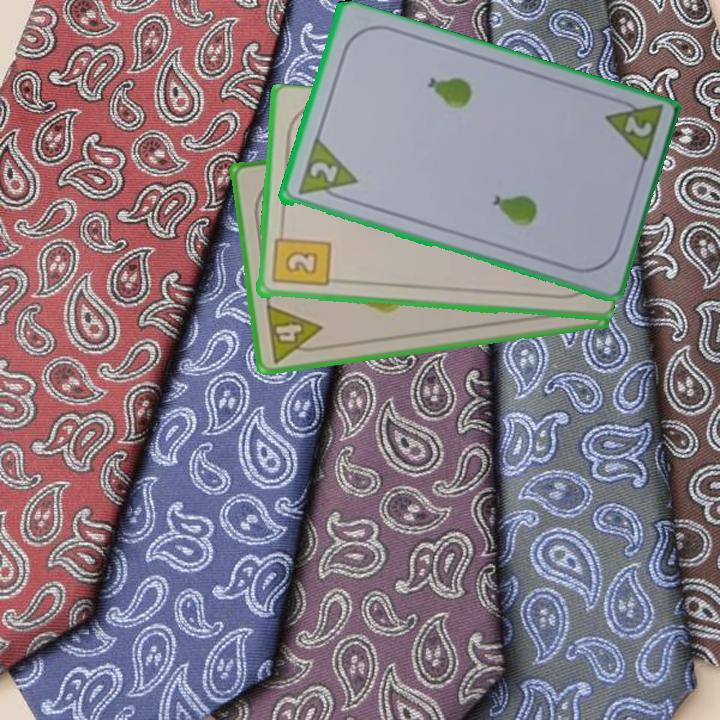2b: (268, 225, 332, 290)
2p: (305, 157, 341, 186), (620, 113, 655, 141)
4p: (262, 300, 327, 366)
